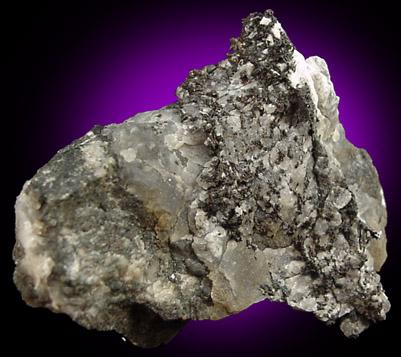silver: (178, 12, 389, 324), (16, 138, 169, 314)
